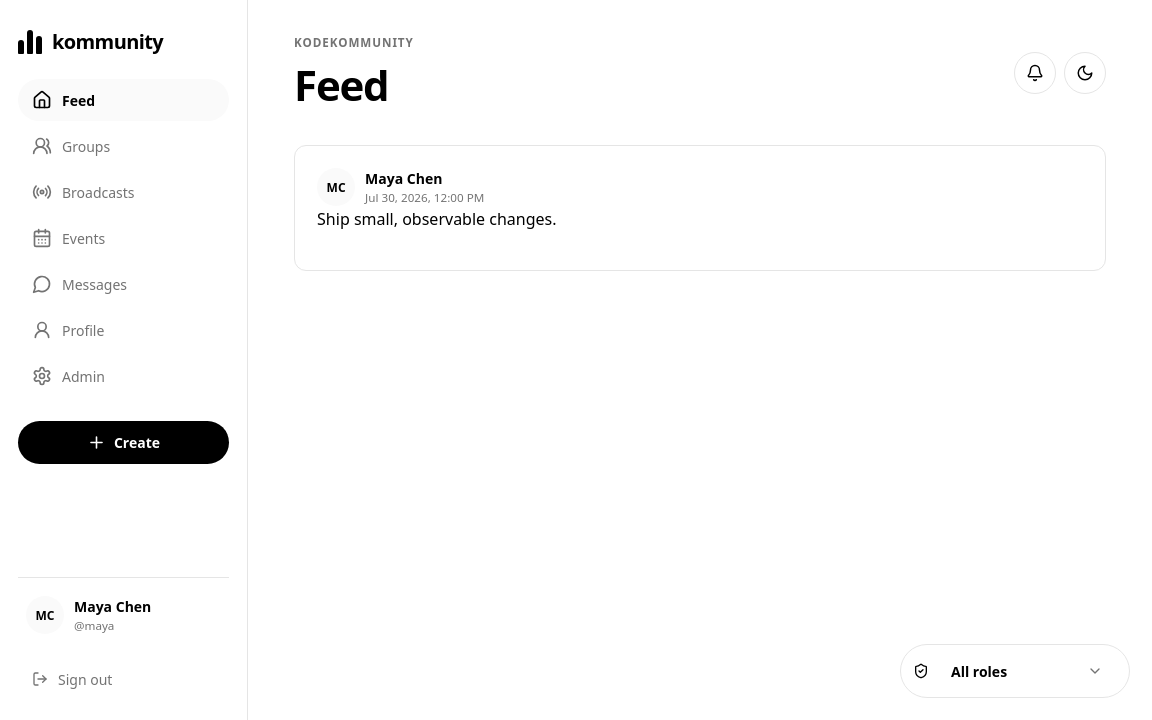
authenticated social application › uses the device view transition for mobile page changes
Expected: the text "Ship small, observable changes." is shown, [317,208,556,230]
Step 1. Click the button "Groups" → {"x": 124, "y": 146}, box [18,125,229,167]
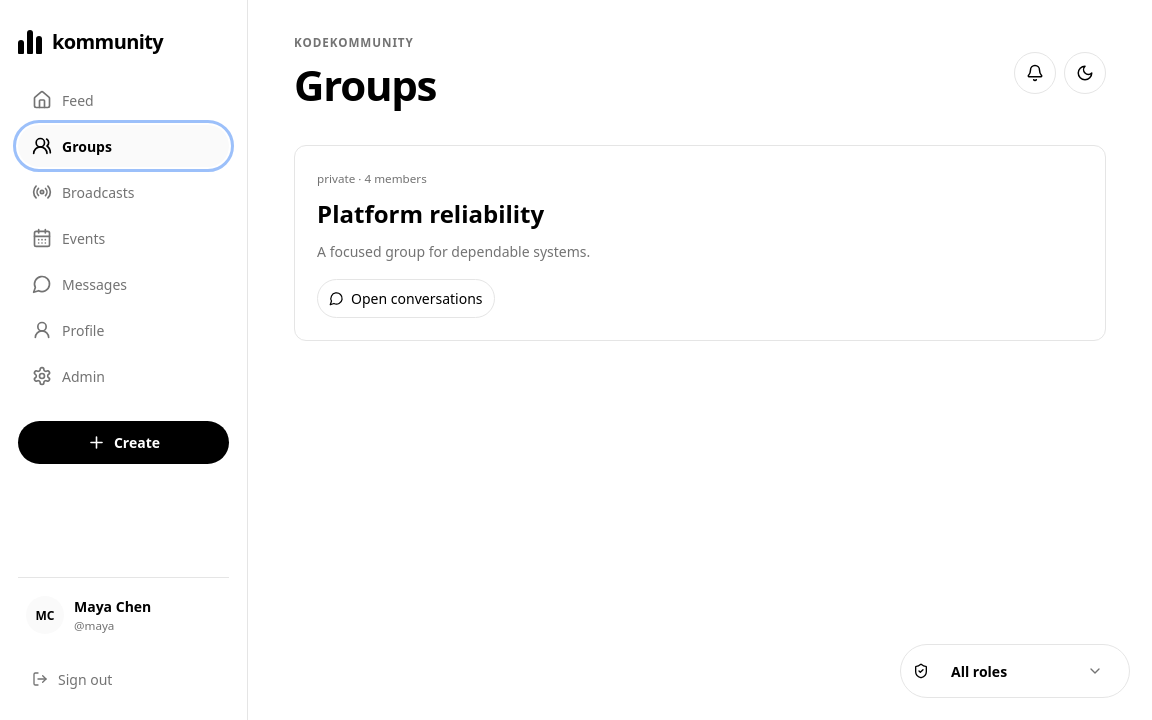
Now the heading "Platform reliability" is shown, box [317,197,544,230]
